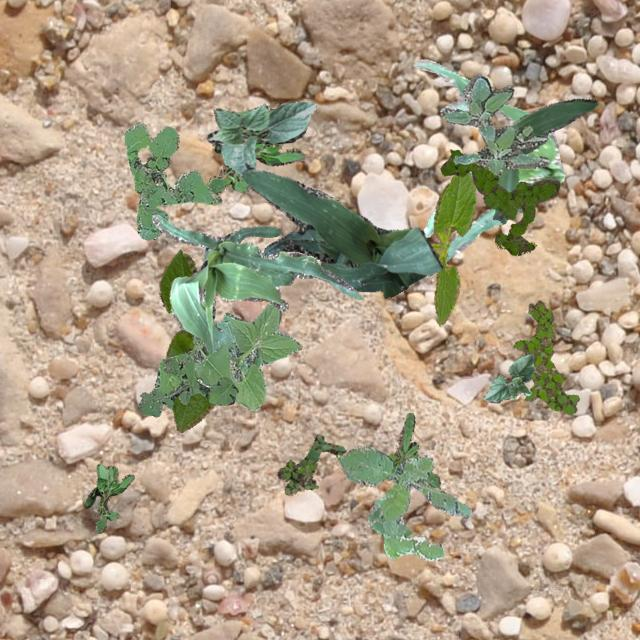crop: (414, 58, 564, 260), (150, 214, 362, 352), (242, 168, 442, 298), (492, 98, 596, 222), (158, 248, 214, 432), (207, 101, 316, 176), (430, 170, 474, 324), (482, 352, 534, 402)
weed: (154, 302, 300, 411), (338, 444, 471, 560), (439, 148, 558, 254), (124, 122, 220, 238), (438, 74, 548, 175), (512, 300, 578, 414), (136, 356, 236, 416), (204, 140, 304, 193), (386, 412, 440, 488), (276, 434, 344, 494), (84, 462, 134, 532)
